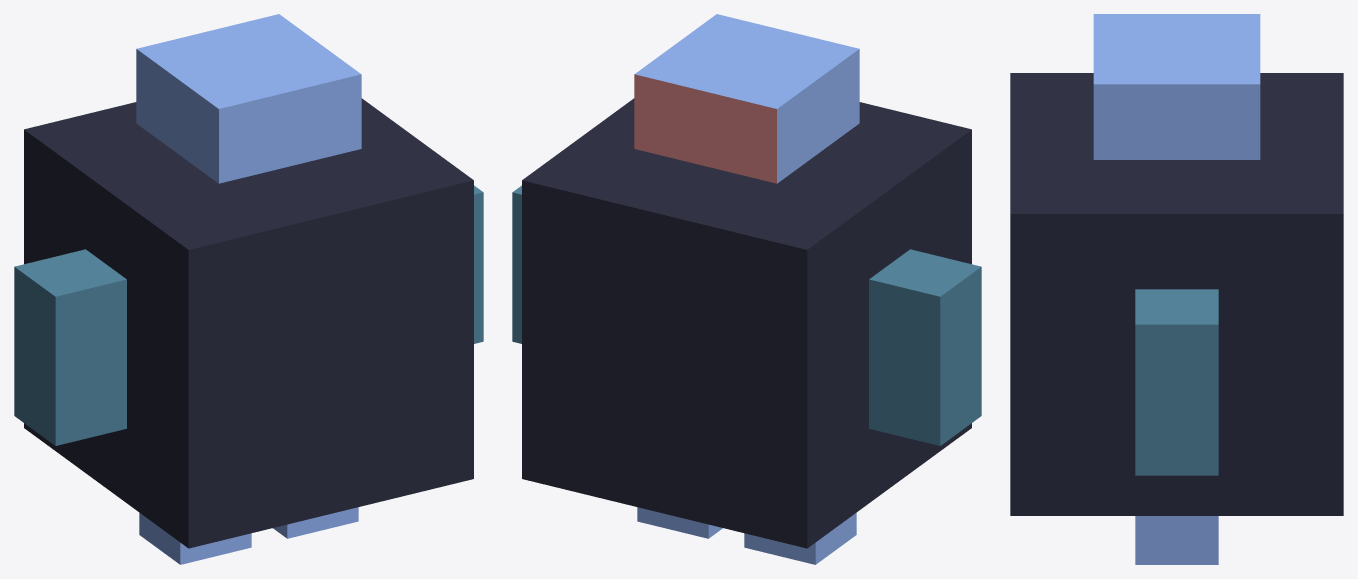
Rendered from character.gltf.
3 views of the same model, side by side, from view 1: azimuth 30°, elevation 25°; view 2: azimuth 150°, elevation 25°; view 3: azimuth 270°, elevation 25° (orthographic).
Parts seen in each view (by area): view 1: torso, head, right_arm, right_leg, left_arm, left_leg; view 2: torso, head, right_arm, right_leg, left_arm, left_leg; view 3: torso, head, left_arm, left_leg.
Boxes of the visible parts, box(x1,y1,x2,y2) form: torso: box(24, 98, 473, 548); head: box(136, 14, 361, 183); right_arm: box(14, 249, 126, 445); right_leg: box(139, 513, 251, 564); left_arm: box(474, 185, 483, 343); left_leg: box(273, 507, 358, 538); torso: box(522, 98, 971, 548); head: box(634, 14, 859, 183); right_arm: box(869, 249, 981, 445); right_leg: box(744, 513, 856, 564); left_arm: box(512, 185, 521, 343); left_leg: box(637, 507, 722, 538); torso: box(1010, 73, 1343, 515); head: box(1093, 14, 1260, 159); left_arm: box(1135, 289, 1218, 475); left_leg: box(1135, 516, 1218, 564).
Size of the model in its own units: 0.375 by 0.3906 by 0.25.
Materials: 1 (1 with a texture image).
